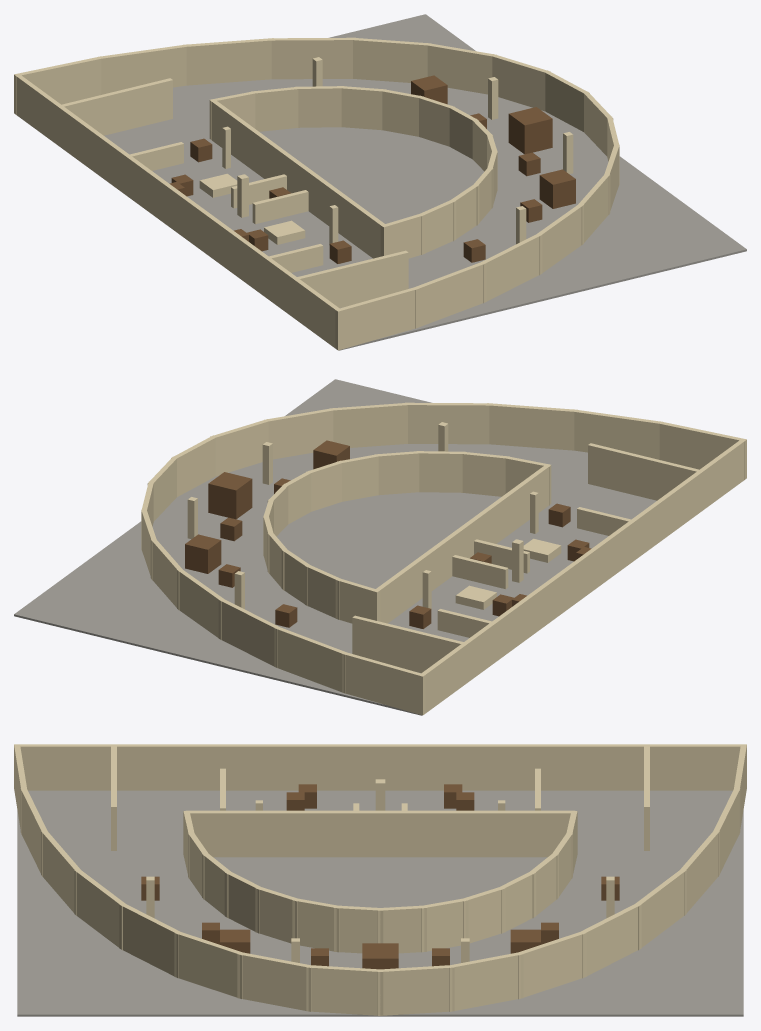
File: de_douglas.glb
3 views of the same model, one above another, from view 1: azimuth 30°, elevation 25°; view 2: azimuth 150°, elevation 25°; view 3: azimuth 270°, elevation 25° (orthographic). The views are drawn at different scales.
Parts seen in each view (by area): view 1: de_douglas; view 2: de_douglas; view 3: de_douglas.
Boxes of the visible parts, <box> form: de_douglas: <box>14,14,746,350</box>; de_douglas: <box>14,379,746,715</box>; de_douglas: <box>14,744,746,1016</box>.
Size of the model in its own units: 44.55 by 4.2 by 60.53.
